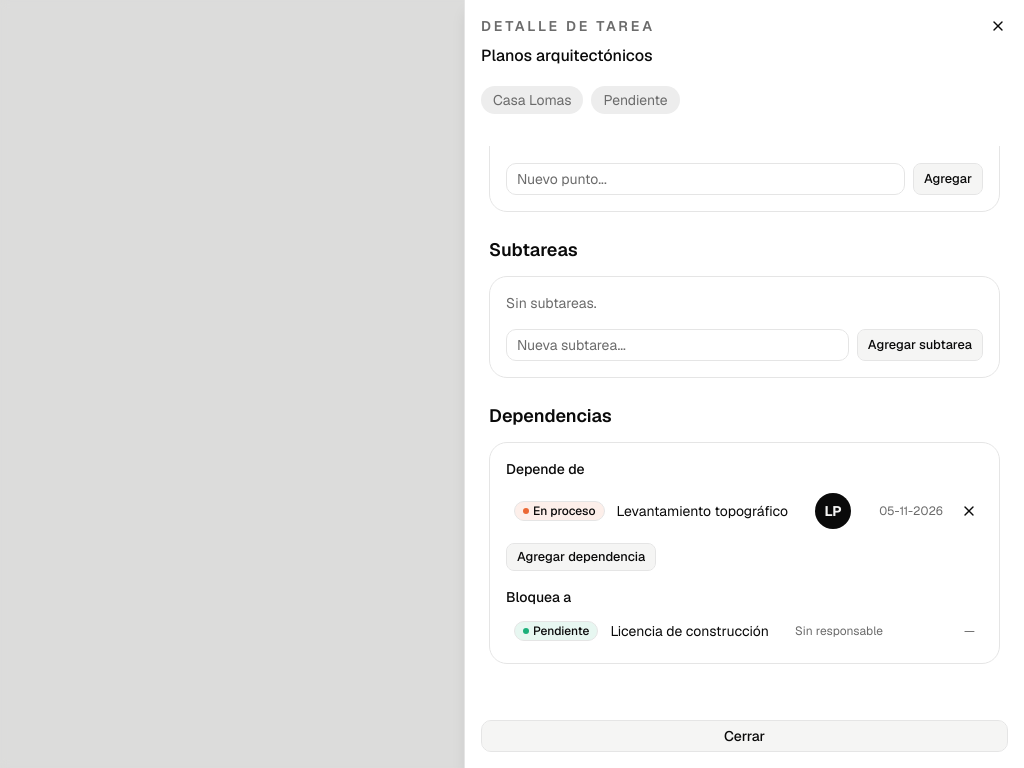
TaskDrawer Dependencias › keeps the dependency when the removal is cancelled
This screenshot has width=1024, height=768.
(page scrolled)
What coordinates should you click on to do the following:
click the button named "Quitar dependencia Levantamiento topográfico"
I would click on:
 (969, 511)
Its box is [955, 497, 983, 525].
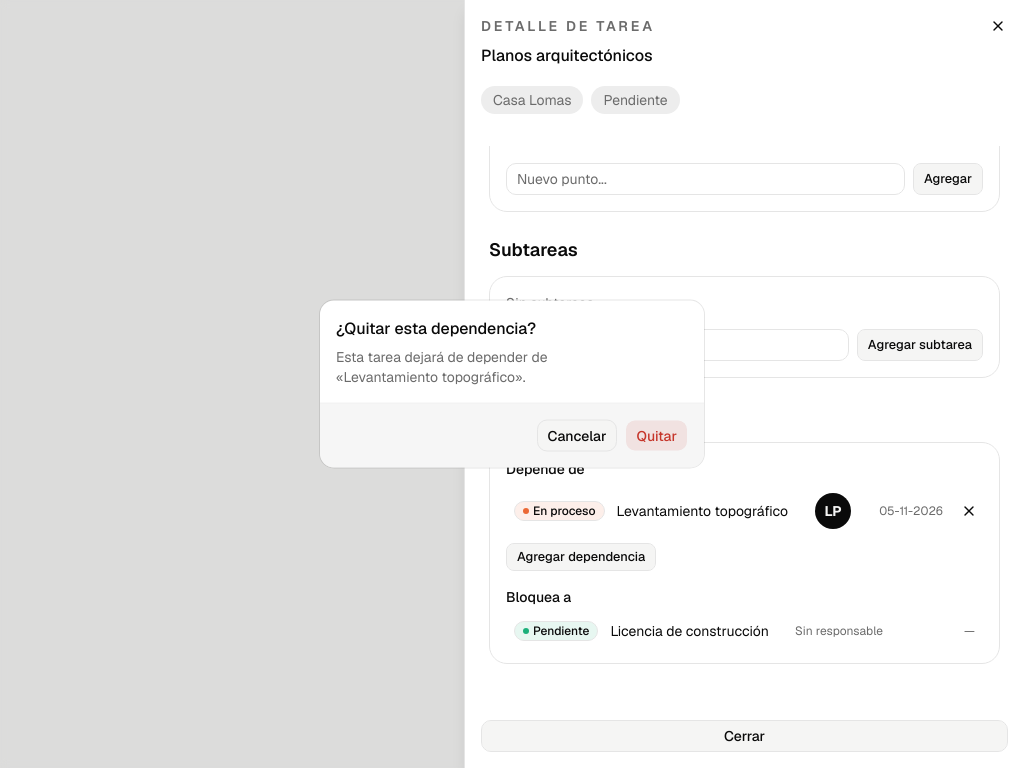
What coordinates should you click on to do the following:
click the button "Cancelar"
I would click on:
 (577, 436)
Its box is [536, 420, 617, 452].
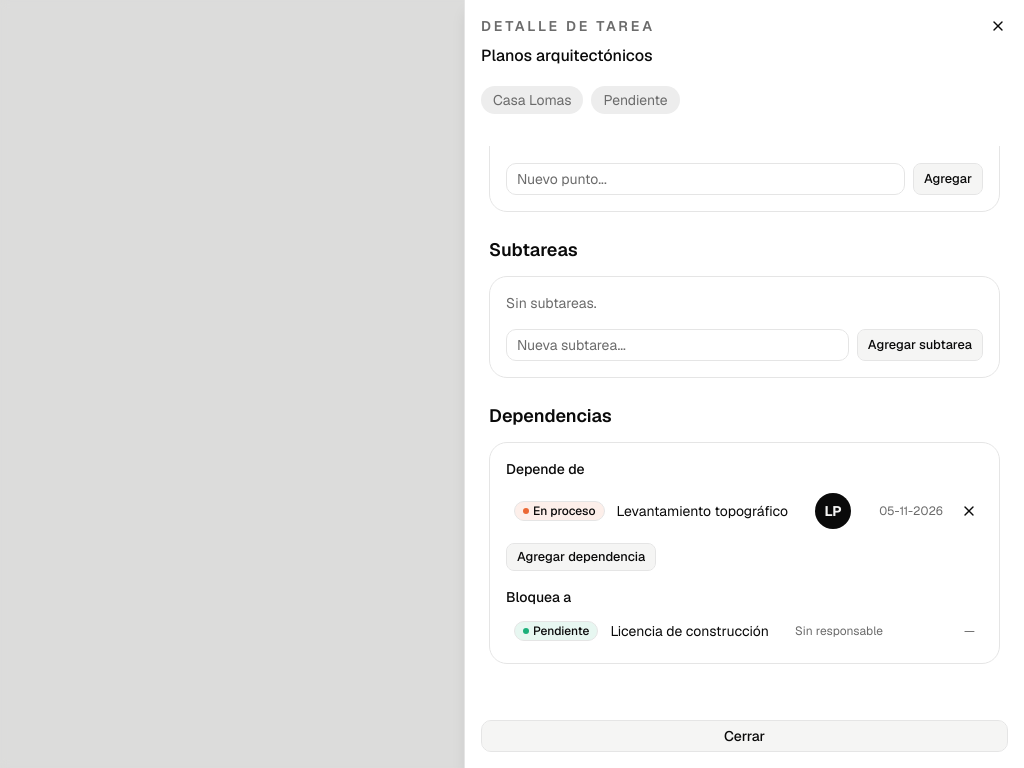
Result: the heading "¿Quitar esta dependencia?" is gone
